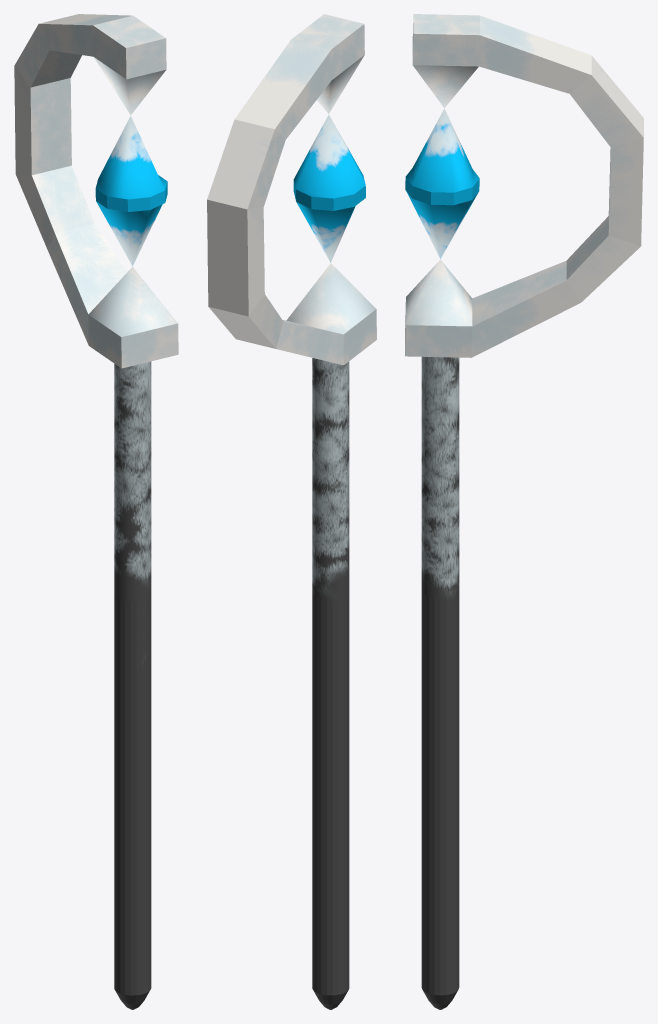
Rendered from Icestaff.FBX.
3 views of the same model, side by side, from view 1: azimuth 30°, elevation 25°; view 2: azimuth 150°, elevation 25°; view 3: azimuth 270°, elevation 25° (orthographic).
Parts seen in each view (by area): view 1: polySurface1, pCylinder1, polySurface2; view 2: polySurface1, pCylinder1, polySurface2; view 3: polySurface1, pCylinder1, polySurface2.
Part boxes in pixels (bbox=[...]): polySurface1: bbox=[14, 14, 178, 368]; pCylinder1: bbox=[114, 361, 151, 1009]; polySurface2: bbox=[95, 116, 167, 266]; polySurface1: bbox=[207, 14, 376, 365]; pCylinder1: bbox=[312, 358, 349, 1009]; polySurface2: bbox=[293, 114, 365, 262]; polySurface1: bbox=[405, 14, 643, 357]; pCylinder1: bbox=[421, 356, 459, 1009]; polySurface2: bbox=[405, 108, 479, 258].
Size of the model in its own units: 2.09 by 32.28 by 7.09.
3 materials, 3 textured.
